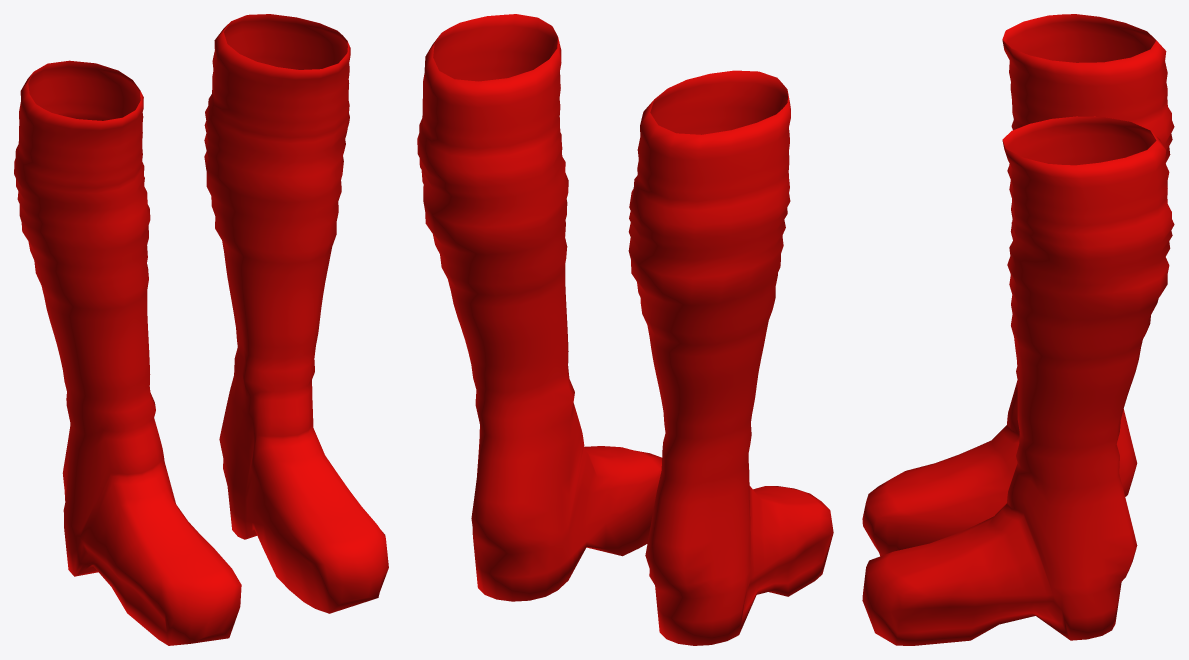
Rendered from Supergirl_shoes_Female.fbx.
3 views of the same model, side by side, from view 1: azimuth 30°, elevation 25°; view 2: azimuth 150°, elevation 25°; view 3: azimuth 270°, elevation 25° (orthographic). The views are drawn at different scales.
Visible parts, largest first — view 1: Supergirl_boot; view 2: Supergirl_boot; view 3: Supergirl_boot.
Boxes of the visible parts, left/top/right/bottom form: Supergirl_boot: left=14, top=14, right=388, bottom=645; Supergirl_boot: left=417, top=14, right=833, bottom=645; Supergirl_boot: left=862, top=14, right=1174, bottom=645.
Size of the model in its own units: 25.3 by 37.03 by 20.74.
